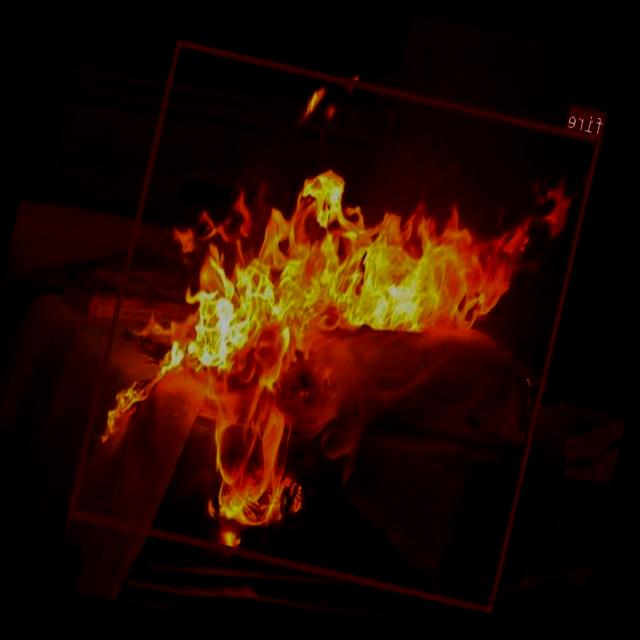fire: (68, 38, 602, 612)
